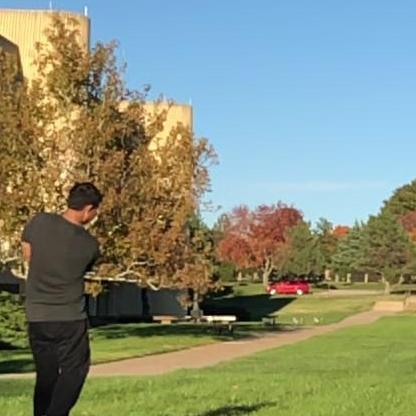golfball: (204, 310, 212, 320)
